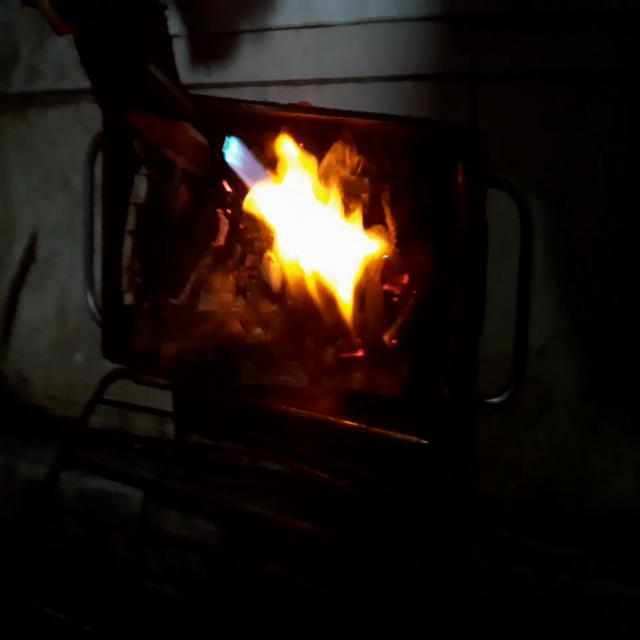Fire: (222, 111, 392, 337)
